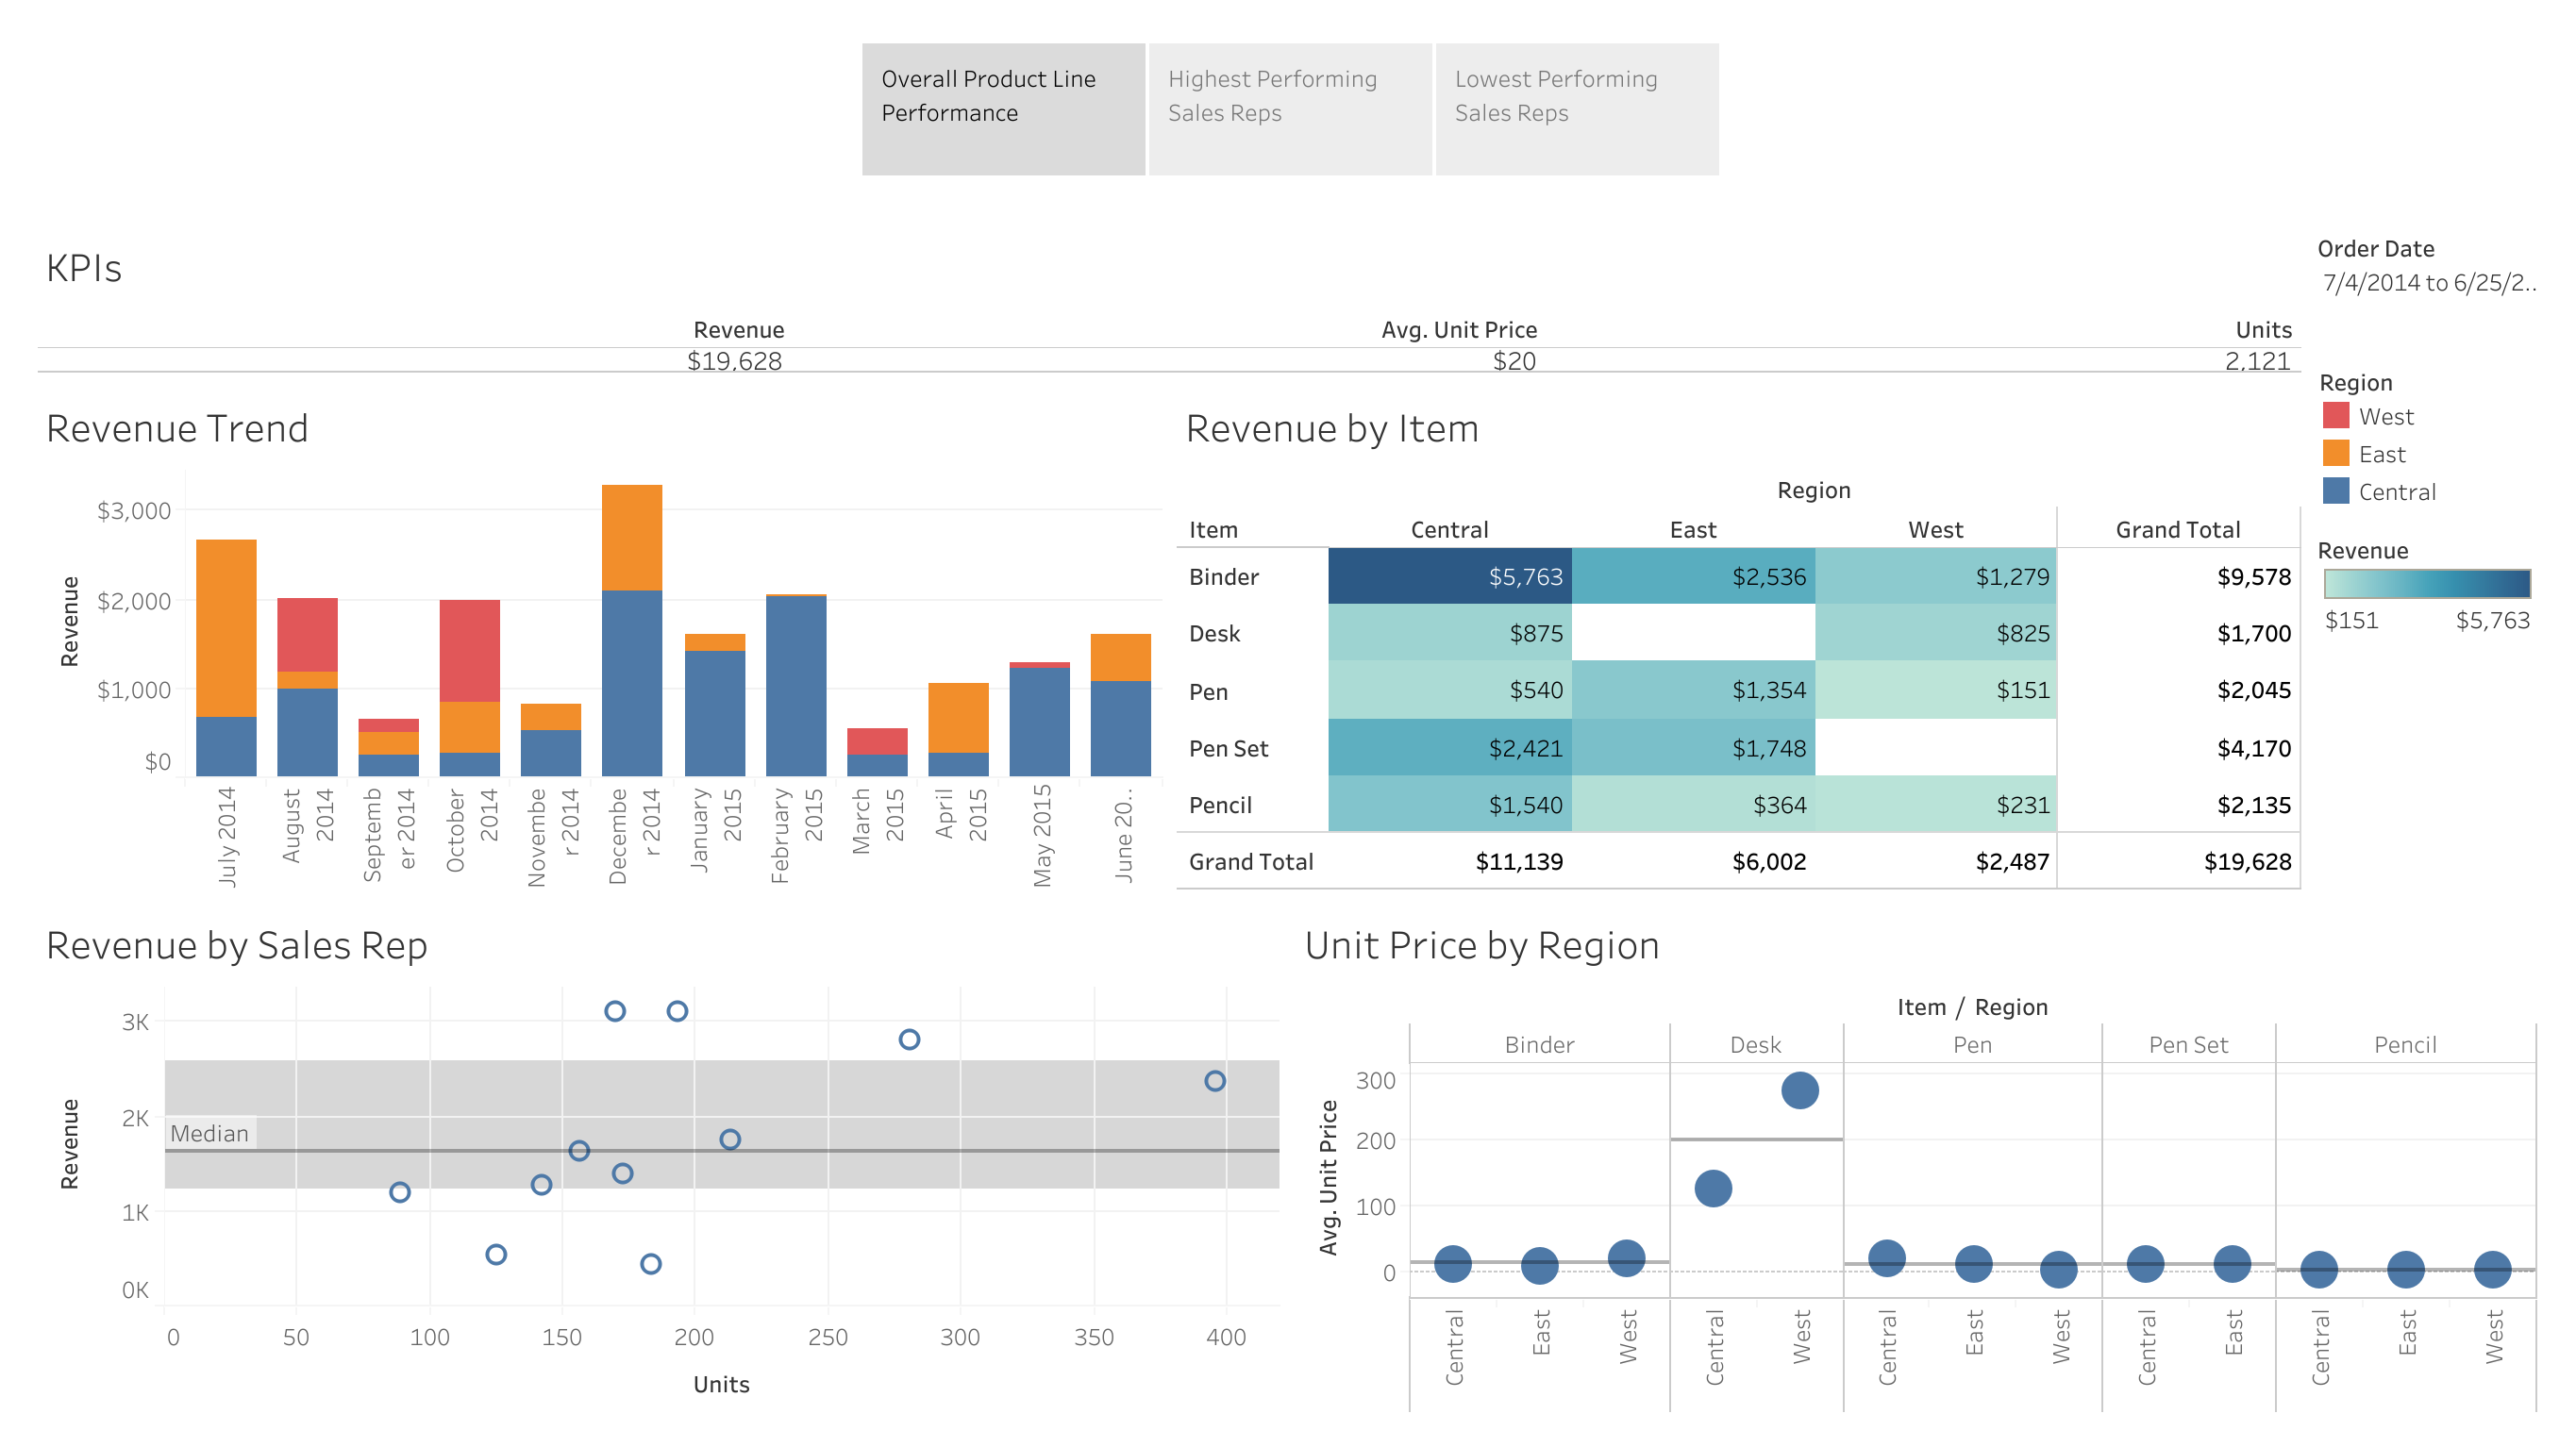

The page's visual inventory and layout, read from the dashboard file:
{"tool":"tableau","page":{"name":"Product Line Dashboard","canvas":[1000,1000],"units":"permille","ordinal":0},"visuals":[{"type":"worksheet","title":"KPIs","mark":"Automatic","box":[6.5,10.6,884.5,131.1]},{"type":"filter","title":"KPIs","param":"[federated.02617e81pd71cb13j7m6x1pw9rpz].[none:OrderDate:qk]","box":[891,10.6,102.5,91.4]},{"type":"legend","title":"Revenue Trend","param":"[federated.02617e81pd71cb13j7m6x1pw9rpz].[none:Region:nk]","box":[891,102,102.5,113.9]},{"type":"worksheet","title":"Revenue Trend","mark":"Bar","rows":["Calculation_1773644263620444160"],"cols":["OrderDate"],"box":[6.5,141.7,442.2,422.5]},{"type":"worksheet","title":"Revenue by Item","mark":"Square","rows":["Item"],"cols":["Region"],"box":[448.7,141.7,442.2,422.5]},{"type":"legend","title":"Revenue by Item","param":"[federated.02617e81pd71cb13j7m6x1pw9rpz].[sum:Calculation_1773644263620444160:qk","box":[891,215.9,102.5,94]},{"type":"worksheet","title":"Revenue by Sales Rep","mark":"Automatic","rows":["Calculation_1773644263620444160"],"cols":["Units"],"box":[6.5,564.2,493.5,425.2]},{"type":"worksheet","title":"Unit Price by Region","mark":"Circle","rows":["Unit Price"],"cols":["Item","Region"],"box":[500,564.2,493.5,425.2]}]}

Visuals, with their boxes on the dashboard's canvas, which has no fixed pixel size, in thousandths of its width and height (x1, y1, x2, y2). These are canvas units, not pixel positions in the 2576x1447 screenshot, which may show the page scaled, cropped or inside an application window:
"KPIs" worksheet: locate(6, 11, 891, 142)
"KPIs" filter: locate(891, 11, 994, 102)
"Revenue Trend" legend: locate(891, 102, 994, 216)
"Revenue Trend" worksheet (Bar marks): locate(6, 142, 449, 564)
"Revenue by Item" worksheet (Square marks): locate(449, 142, 891, 564)
"Revenue by Item" legend: locate(891, 216, 994, 310)
"Revenue by Sales Rep" worksheet: locate(6, 564, 500, 989)
"Unit Price by Region" worksheet (Circle marks): locate(500, 564, 994, 989)
